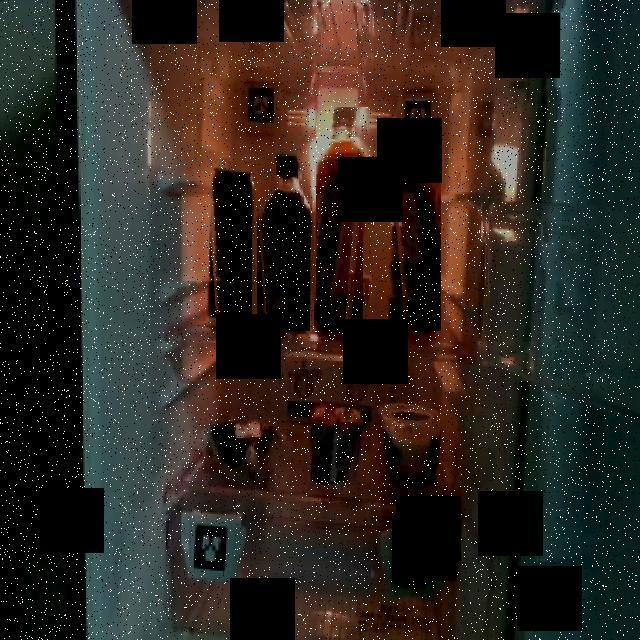coffee: (255, 151, 310, 331)
energy_drink: (206, 163, 252, 322)
pudding: (375, 396, 440, 486)
rice_ball: (204, 415, 278, 474)
tea_a: (388, 134, 441, 331)
tea_i: (316, 107, 369, 328)
yogurt: (308, 402, 362, 486)
